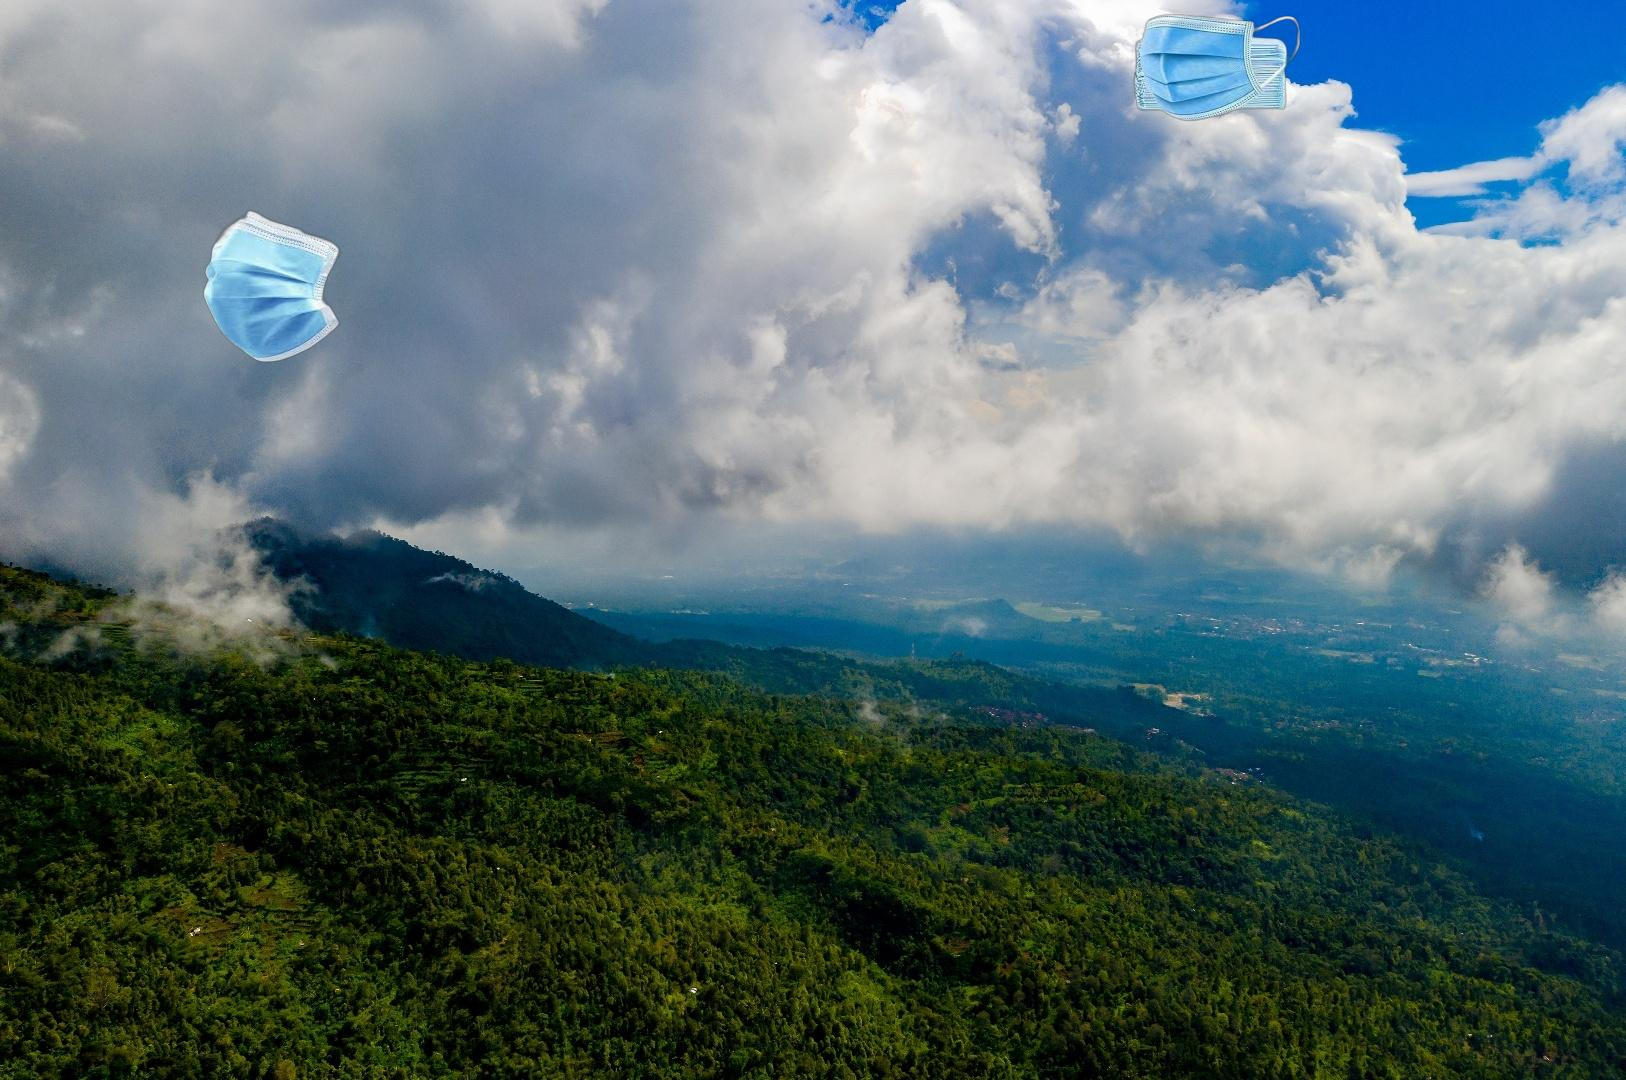trash: (201, 209, 391, 365), (1131, 1, 1303, 124)
